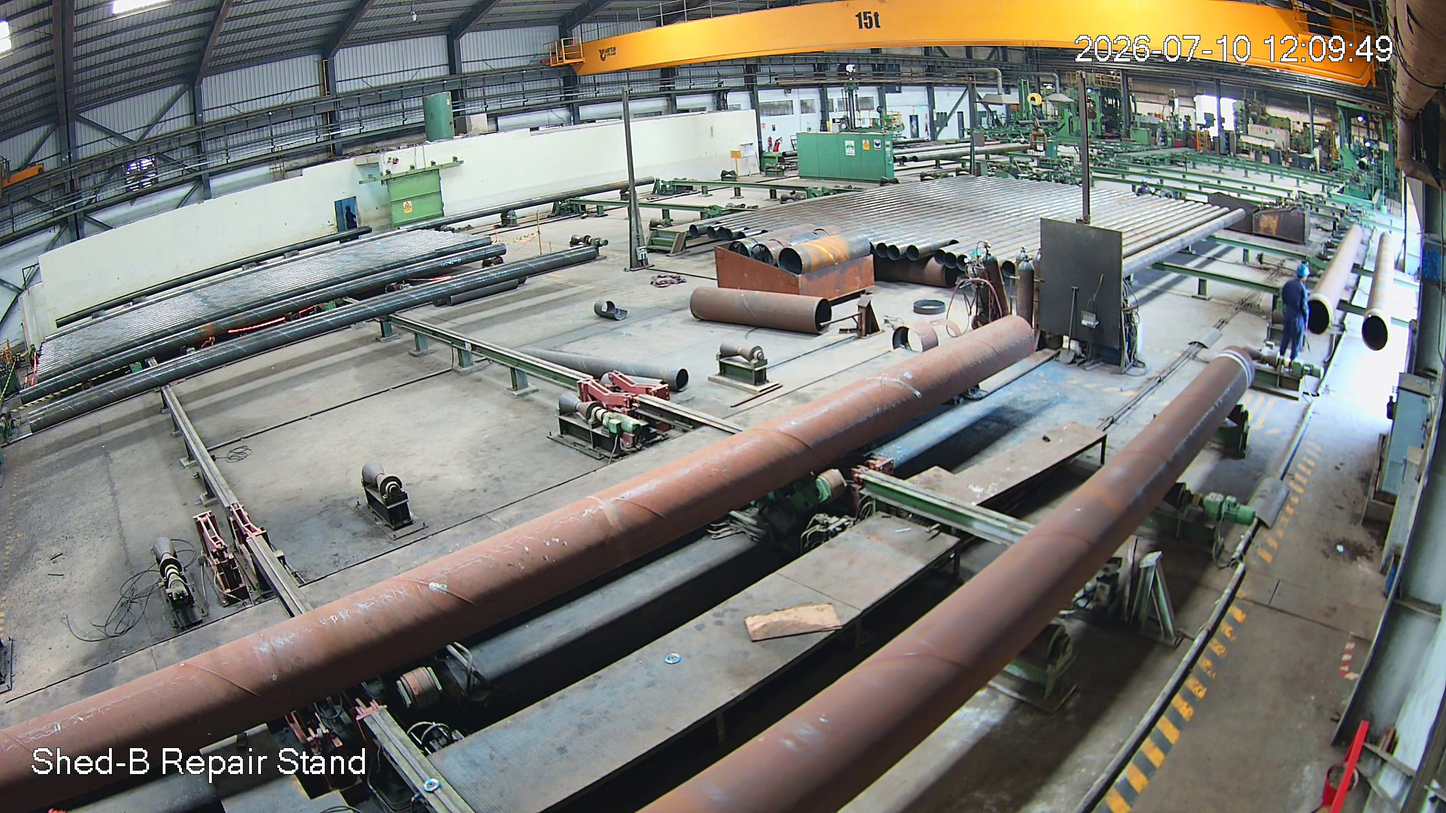Helmet: (1292, 261, 1311, 285)
Person: (1279, 264, 1317, 360)
